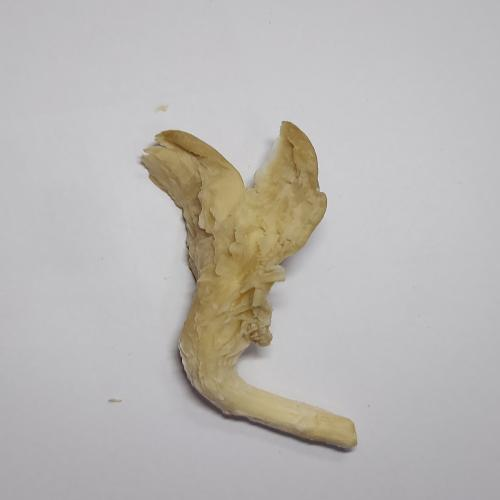Oyster Mushroom: (139, 112, 357, 468)
